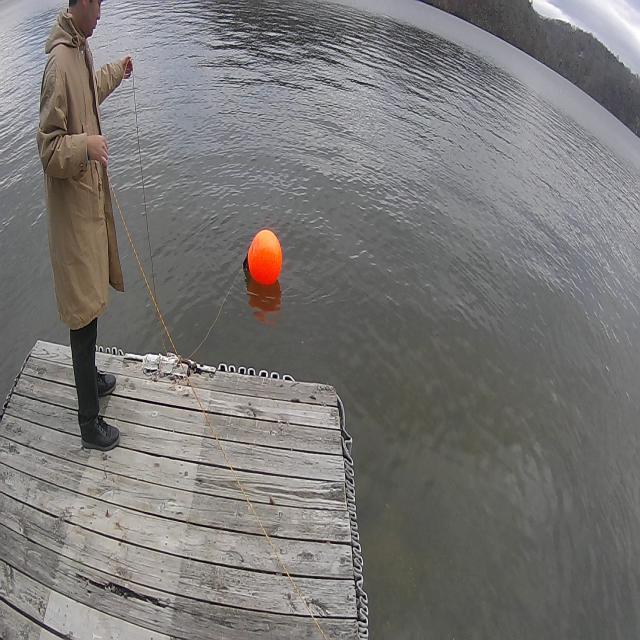Buoy: (238, 222, 290, 298)
